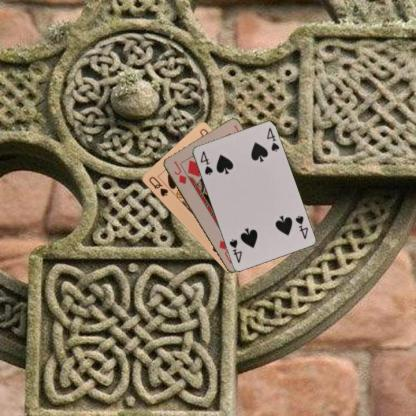4s: (292, 213, 309, 240), (198, 149, 214, 176)
Jd: (171, 158, 187, 186)
Qs: (146, 174, 169, 198)
